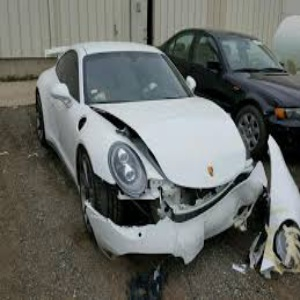bumper: (81, 167, 267, 263)
